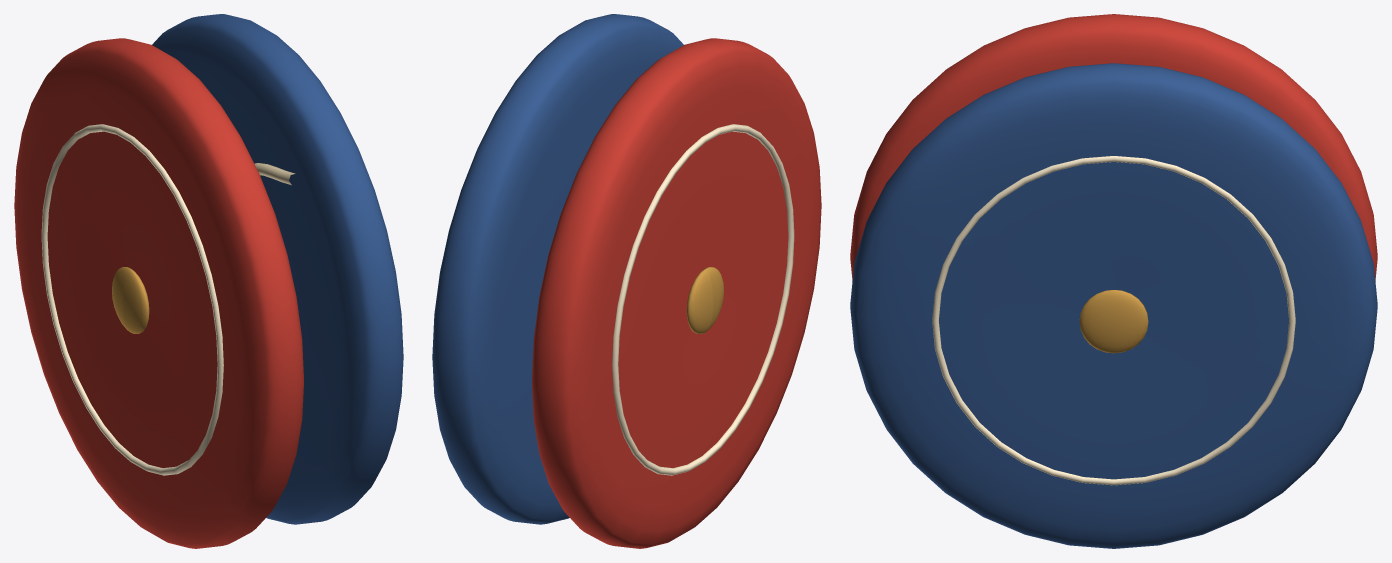
The model's file is yoyo-light.glb.
3 renders of one model, left to right at view 1: azimuth 30°, elevation 25°; view 2: azimuth 150°, elevation 25°; view 3: azimuth 270°, elevation 25°, orthographic.
Visible parts, largest first — view 1: red, blue, ivory, brass; view 2: red, blue, ivory, brass; view 3: blue, red, ivory, brass.
Boxes of the visible parts, x1,y1,x2,y2 form: red: [14, 38, 303, 548]; blue: [152, 14, 403, 524]; ivory: [41, 124, 223, 475]; brass: [112, 267, 149, 333]; red: [532, 38, 821, 548]; blue: [432, 14, 683, 524]; ivory: [612, 124, 794, 475]; brass: [686, 267, 723, 333]; blue: [850, 63, 1377, 548]; red: [850, 14, 1377, 280]; ivory: [932, 156, 1295, 485]; brass: [1079, 290, 1148, 353].
Size of the model in its own units: 0.264 by 0.68 by 0.68.
